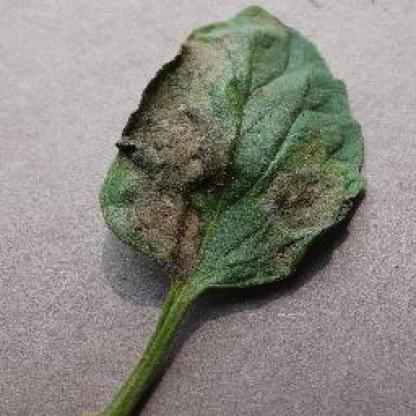bad leaf: (27, 2, 399, 379)
